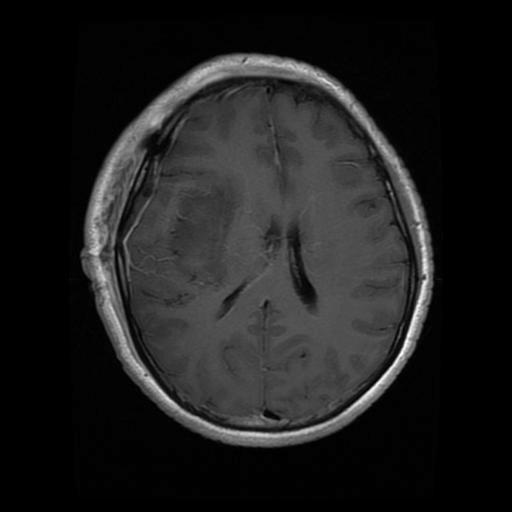Tumour-Glioma: (151, 182, 253, 288)
